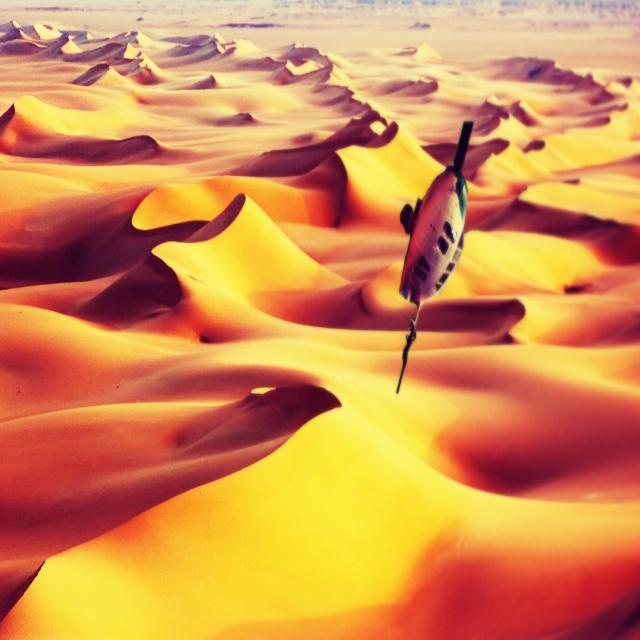airplane: (395, 119, 474, 394)
